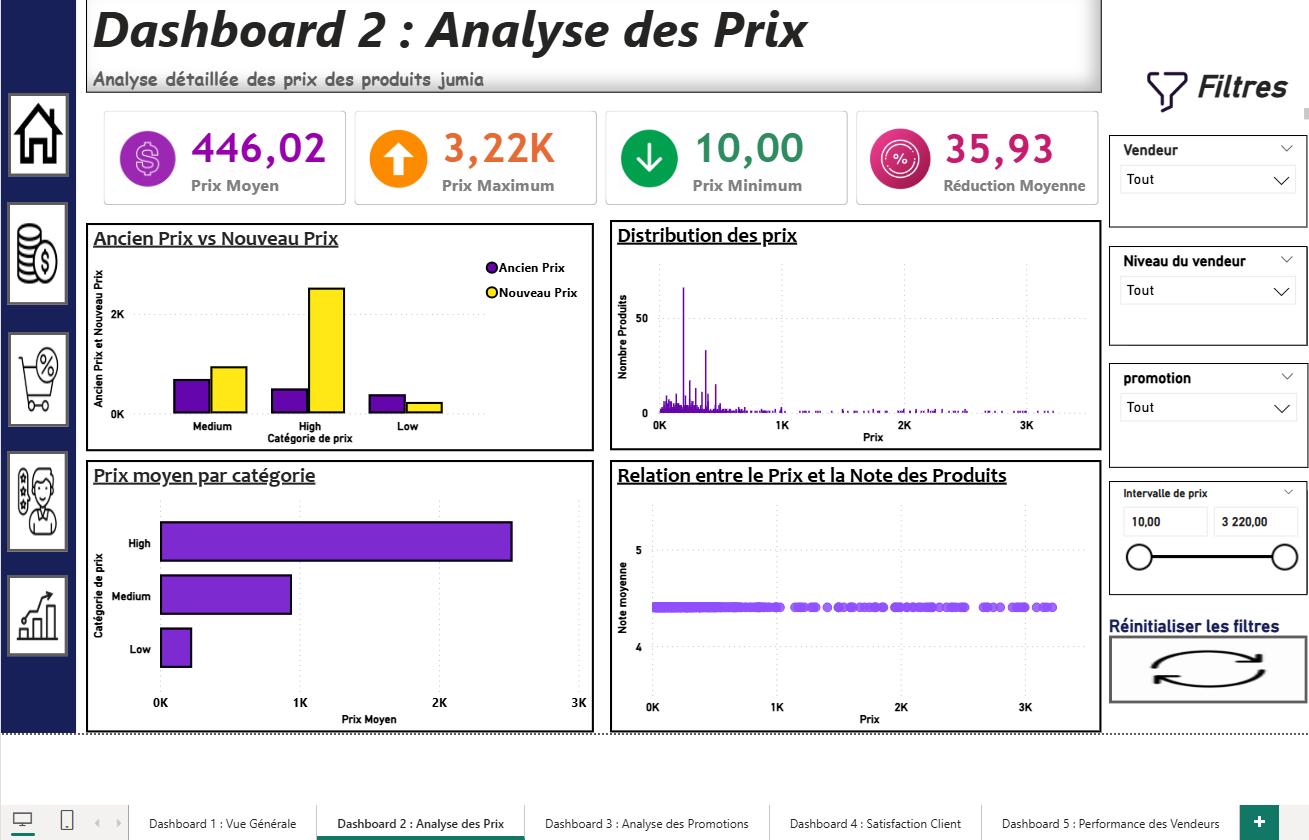

The page's visual inventory and layout, read from the dashboard file:
{"tool":"powerbi","page":{"name":"Dashboard 2 : Analyse des Prix","canvas":[1280,720],"ordinal":1},"visuals":[{"type":"actionButton","title":"Réinitialiser les filtres","box":[1078.2,605.7,193.1,85.1],"z":0},{"type":"textbox","box":[0,0,73.3,719.5],"z":1000},{"type":"actionButton","box":[6.8,97,58.6,81.2],"z":2000},{"type":"actionButton","box":[5.6,203,58.6,100.4],"z":3000},{"type":"actionButton","box":[6.8,329.3,58.6,92.5],"z":4000},{"type":"actionButton","box":[5.6,445.5,58.6,98.1],"z":5000},{"type":"actionButton","box":[5.6,566.1,58.6,78.9],"z":6000},{"type":"textbox","title":"Dashboard 2 : Analyse des Prix","box":[82.3,0,987.9,97],"z":7000},{"type":"cardVisual","fields":{"Data":["vue generale.Prix Moyen","Analyse des Prix.Prix Maximum","Analyse des Prix.Prix Minimum","Analyse des Prix.Réduction Moyenne"]},"box":[82.3,97,1003.7,126.3],"z":8000},{"type":"image","box":[1104.1,73.3,60.9,47.4],"z":9000},{"type":"clusteredColumnChart","title":"Ancien Prix vs Nouveau Prix","fields":{"Category":["dw dim_product.price_category"],"Y":["Analyse des Prix.Ancien Prix Moyen","Analyse des Prix.Nouveau Prix Moyen"]},"box":[82.3,223.3,494,222.2],"z":10000},{"type":"columnChart","title":"Distribution des prix","fields":{"Y":["vue generale.Nombre Produits"],"Category":["dw fact_products.new_price"]},"box":[592.1,221,478.2,224.4],"z":11000},{"type":"barChart","title":"Prix moyen par catégorie","fields":{"Category":["dw dim_product.price_category"],"Y":["Analyse des Prix.Prix Moyen _dash"]},"box":[82.3,454.5,494,265],"z":12000},{"type":"scatterChart","title":"Relation entre le Prix et la Note des Produits","fields":{"X":["dw fact_products.new_price"],"Y":["dw fact_products.rate"]},"box":[592,454,478,265],"z":13000},{"type":"slicer","fields":{"Values":["dw dim_vendor.seller_id"]},"box":[1078.2,137.9,193.1,89.7],"z":14000},{"type":"slicer","fields":{"Values":["dw dim_vendor.saler_score"]},"box":[1095,247,175.9,95.9],"z":15000},{"type":"slicer","fields":{"Values":["dw fact_products.is_discounted"]},"box":[1078.2,359.8,193.1,102.3],"z":16000},{"type":"slicer","fields":{"Values":["dw dim_vendor.followers"]},"box":[1095,483.8,175.9,101.5],"z":17000},{"type":"textbox","title":"Filtres ","box":[1157.1,73.3,122.9,55.3],"z":18000},{"type":"slicer","fields":{"Values":["dw dim_vendor.seller_level"]},"box":[1078.2,246,193.1,96.6],"z":19000},{"type":"slicer","fields":{"Values":["dw fact_products.new_price"]},"box":[1078.2,474.7,193.1,111.5],"z":20000}]}

Visuals, with their boxes on the page's 1280x720 design canvas (x1, y1, x2, y2). These are canvas units, not pixel positions in the 1309x840 screenshot, which may show the page scaled, cropped or inside an application window:
"Réinitialiser les filtres" actionButton: (1078, 606, 1271, 691)
textbox: (0, 0, 73, 720)
actionButton: (7, 97, 65, 178)
actionButton: (6, 203, 64, 303)
actionButton: (7, 329, 65, 422)
actionButton: (6, 446, 64, 544)
actionButton: (6, 566, 64, 645)
"Dashboard 2 : Analyse des Prix" textbox: (82, 0, 1070, 97)
cardVisual - vue generale.Prix Moyen x Analyse des Prix.Prix Maximum: (82, 97, 1086, 223)
image: (1104, 73, 1165, 121)
"Ancien Prix vs Nouveau Prix" clusteredColumnChart: (82, 223, 576, 446)
"Distribution des prix" columnChart: (592, 221, 1070, 445)
"Prix moyen par catégorie" barChart: (82, 454, 576, 720)
"Relation entre le Prix et la Note des Produits" scatterChart: (592, 454, 1070, 719)
slicer - dw dim_vendor.seller_id: (1078, 138, 1271, 228)
slicer - dw dim_vendor.saler_score: (1095, 247, 1271, 343)
slicer - dw fact_products.is_discounted: (1078, 360, 1271, 462)
slicer - dw dim_vendor.followers: (1095, 484, 1271, 585)
"Filtres " textbox: (1157, 73, 1280, 129)
slicer - dw dim_vendor.seller_level: (1078, 246, 1271, 343)
slicer - dw fact_products.new_price: (1078, 475, 1271, 586)
